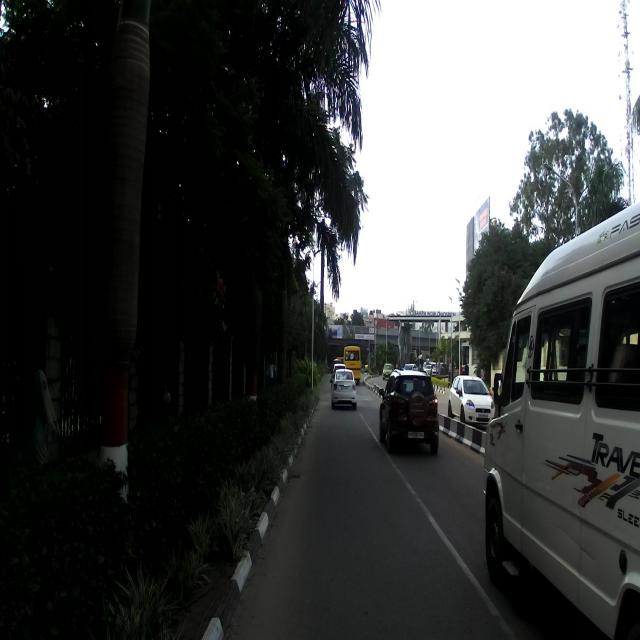car: (377, 370, 440, 455)
mini-bus: (481, 199, 639, 638)
